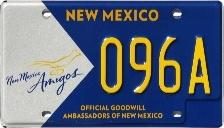0: (98, 34, 126, 96)
6: (156, 34, 185, 96)
9: (127, 36, 155, 95)
A: (185, 35, 215, 97)
